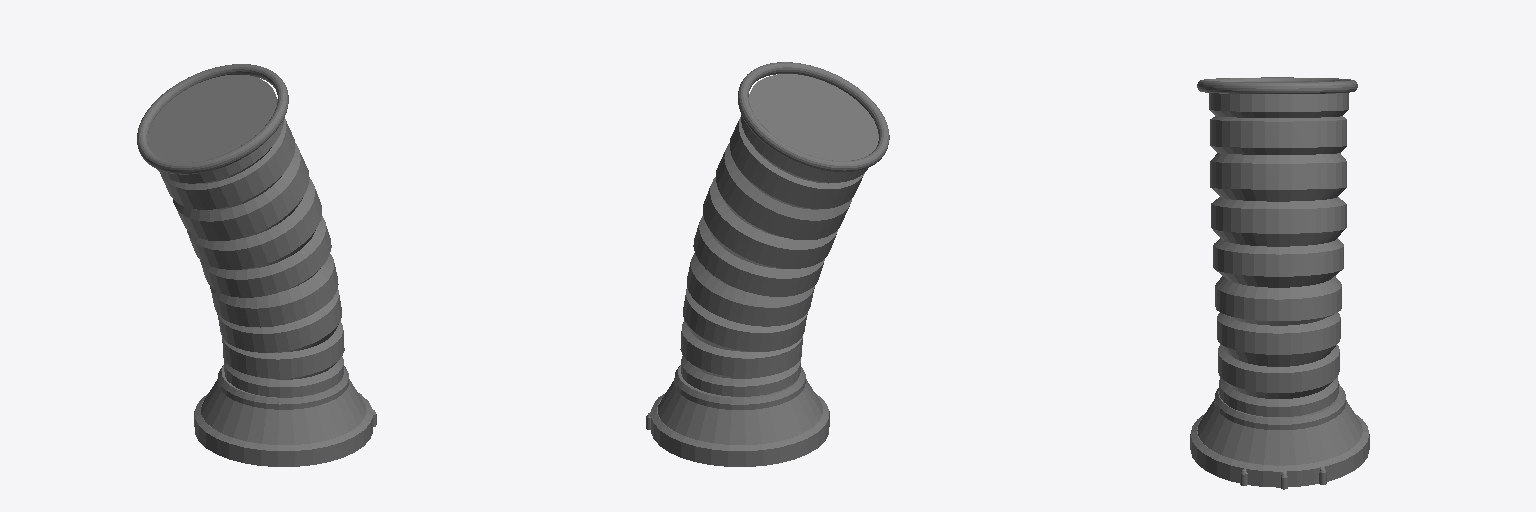
Rendered from goddard_PataIzqDel.obj.
3 renders of one model, left to right at view 1: azimuth 30°, elevation 25°; view 2: azimuth 150°, elevation 25°; view 3: azimuth 270°, elevation 25°, orthographic.
Visible parts, largest first — view 1: pata_delantera_izquierda; view 2: pata_delantera_izquierda; view 3: pata_delantera_izquierda.
Boxes of the visible parts, <box> form: pata_delantera_izquierda: <box>137,64,376,466</box>; pata_delantera_izquierda: <box>646,62,889,466</box>; pata_delantera_izquierda: <box>1190,77,1369,489</box>.
Size of the model in its own units: 1.45 by 2.29 by 1.03.